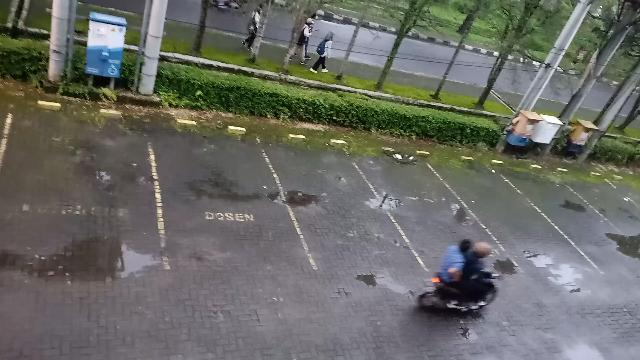empty: (0, 96, 156, 270), (158, 116, 284, 272), (286, 132, 386, 268), (384, 148, 471, 274), (472, 156, 544, 272), (546, 166, 598, 274)
